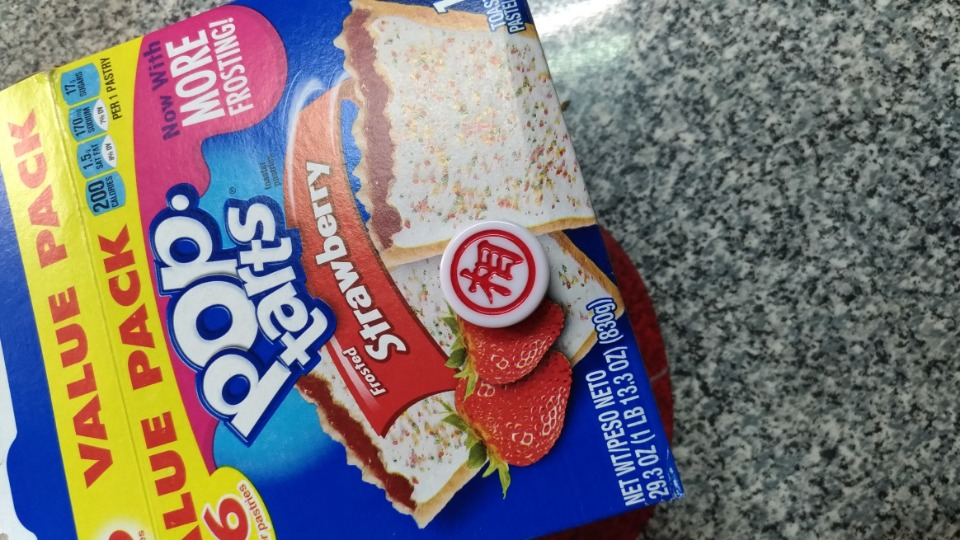r-elephant: (427, 215, 565, 339)
